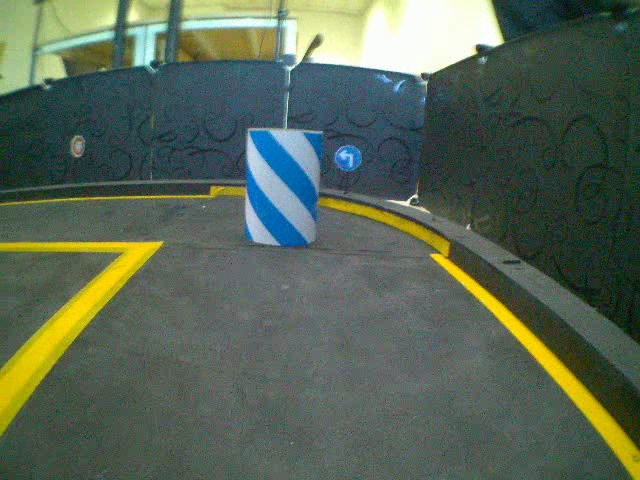bucket: (246, 126, 319, 250)
